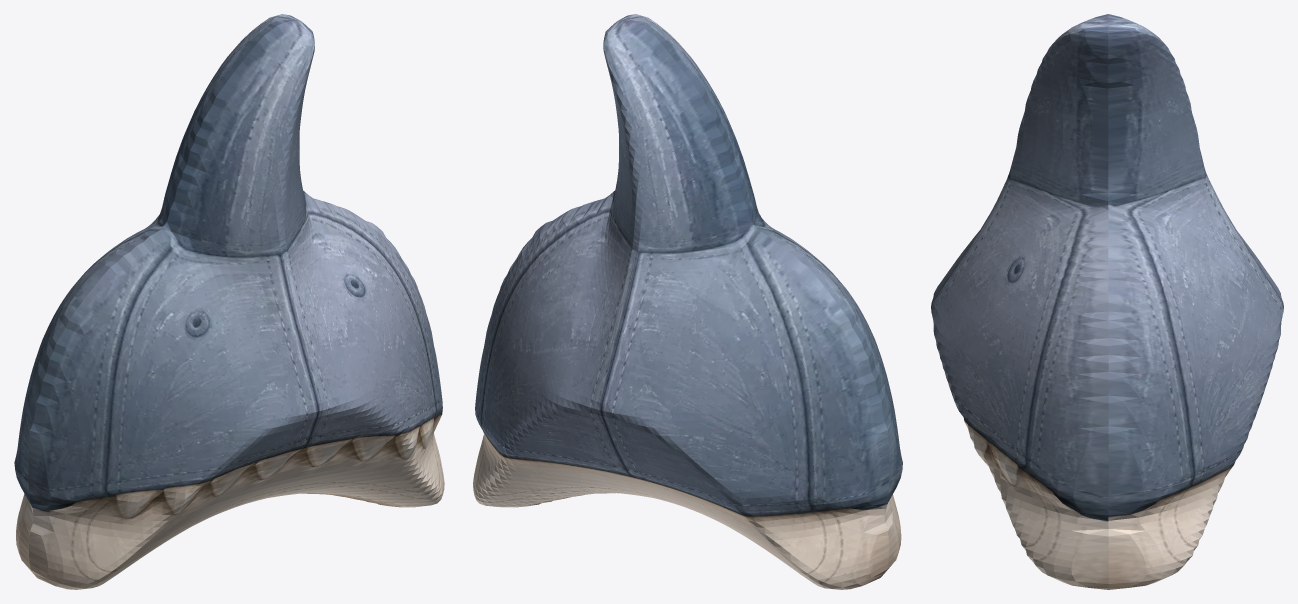
File: shark_fin_cap.glb
3 views of the same model, side by side, from view 1: azimuth 30°, elevation 25°; view 2: azimuth 150°, elevation 25°; view 3: azimuth 270°, elevation 25° (orthographic). The views are drawn at different scales.
Parts seen in each view (by area): view 1: geometry_0; view 2: geometry_0; view 3: geometry_0.
Boxes of the visible parts, left/top/right/bottom form: geometry_0: left=14, top=14, right=444, bottom=589; geometry_0: left=473, top=14, right=902, bottom=589; geometry_0: left=931, top=14, right=1283, bottom=589.
Size of the model in its own units: 0.824 by 0.98 by 0.6168.
Materials: 1 (1 with a texture image).
